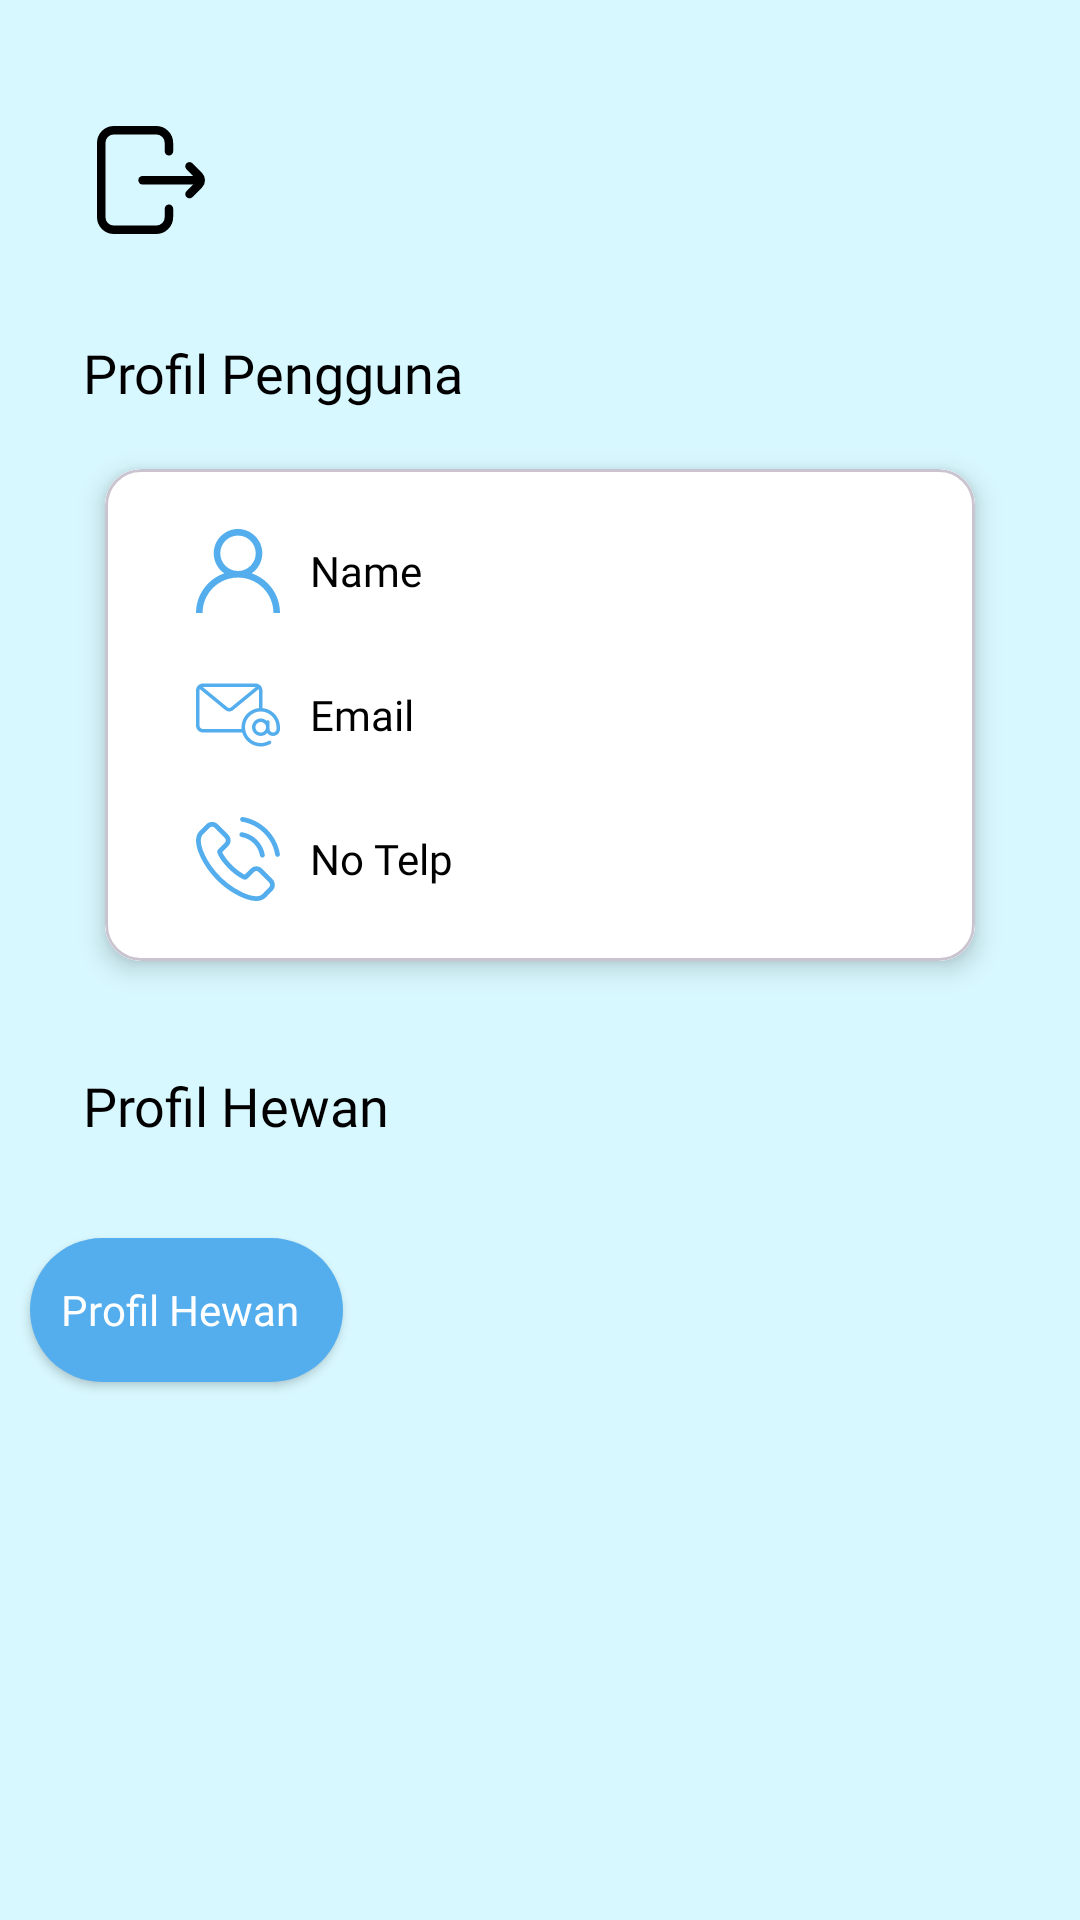

Locate icon controls on the screen. Image size 1080px x 1920px, boxes as box(x1, y1, x2, y2).
phone: box(196, 817, 280, 901)
